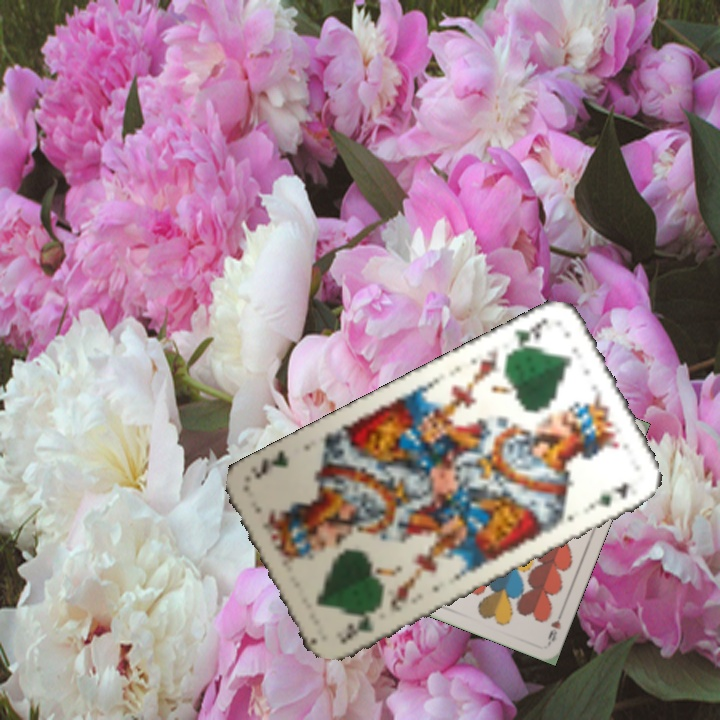GK: (331, 607, 380, 648), (506, 313, 550, 356)
H9: (543, 607, 566, 646)
